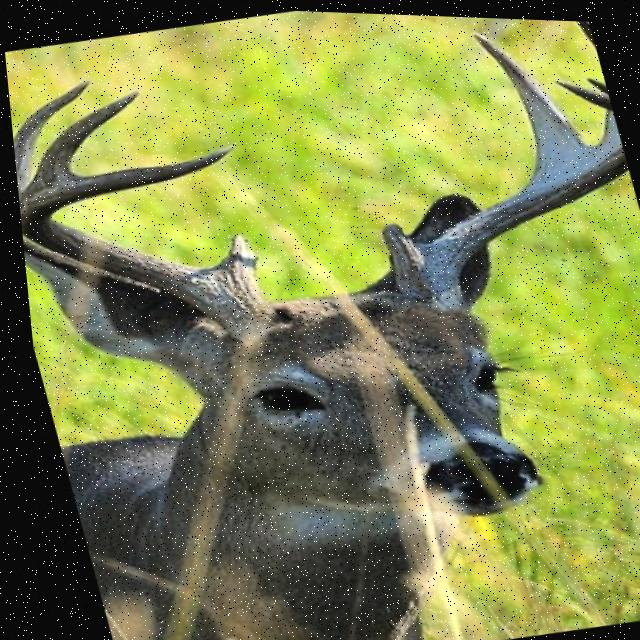L-F: (15, 142, 286, 343)
L-G1: (207, 232, 256, 280)
L-G3: (23, 90, 138, 188)
R-F: (389, 129, 625, 311)
R-G1: (376, 219, 419, 270)
R-G2: (470, 26, 586, 169)
